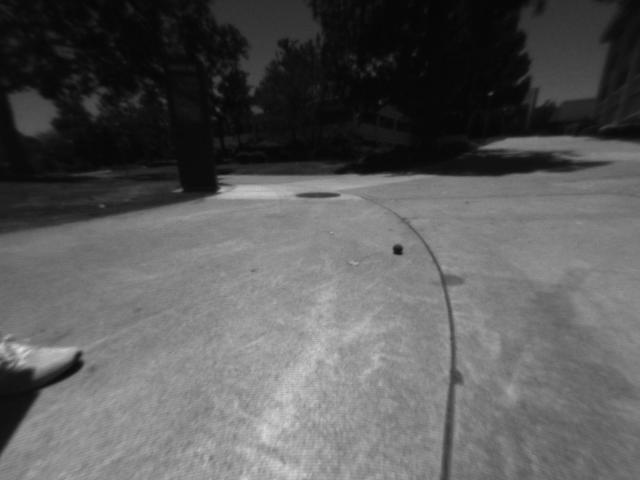dogtoy: (385, 238, 414, 259)
